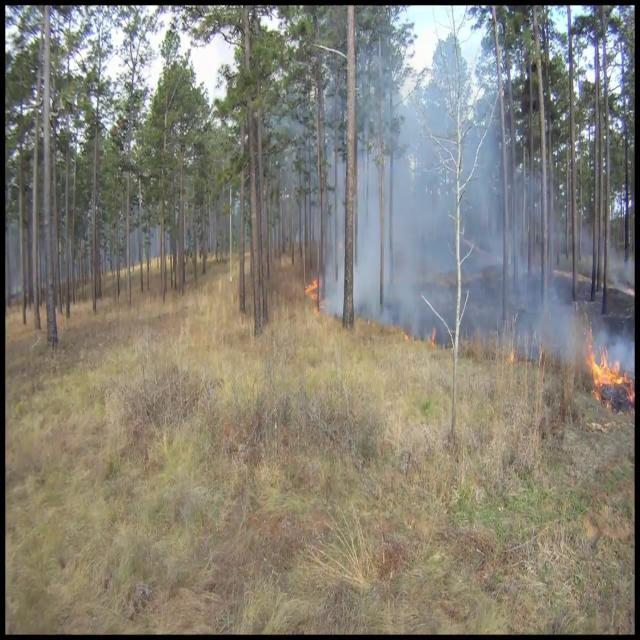Fire: (584, 337, 630, 393)
Smoke: (325, 7, 521, 340)
